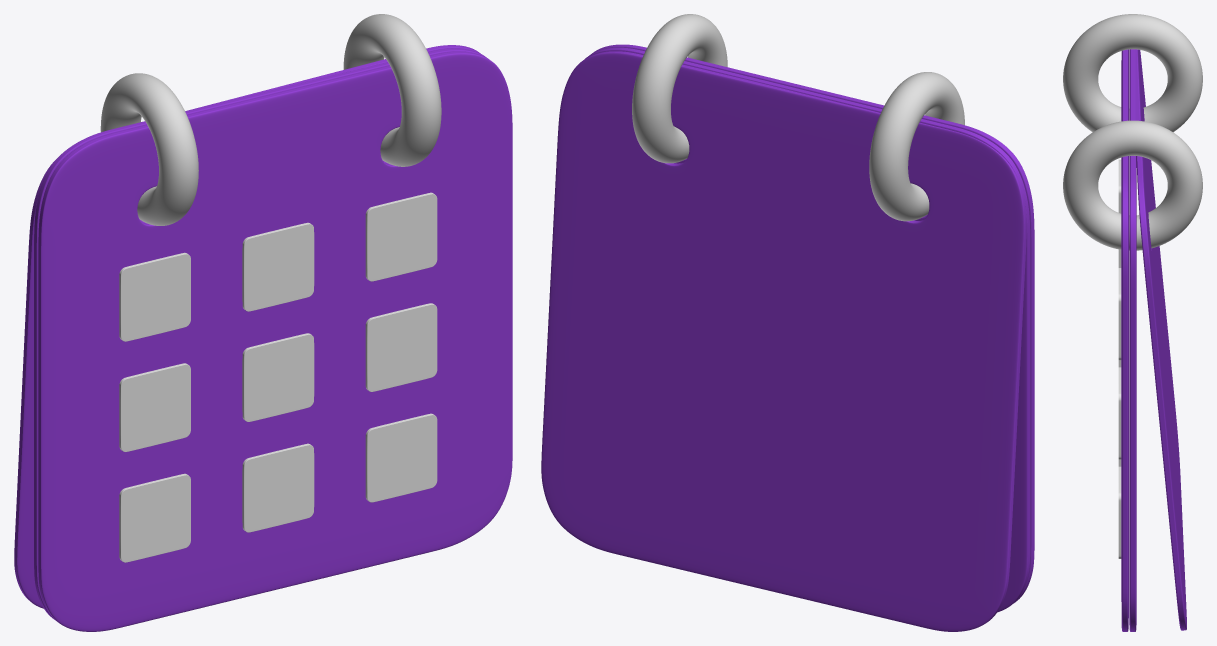
Rendered from calender.fbx.
3 renders of one model, left to right at view 1: azimuth 30°, elevation 25°; view 2: azimuth 150°, elevation 25°; view 3: azimuth 270°, elevation 25°, orthographic. The views are drawn at different scales.
Visible parts, largest first — view 1: Plane.002, Torus.009; view 2: Plane.002, Torus.009; view 3: Torus.009, Plane.002.
Boxes of the visible parts, x1,y1,x2,y2 form: Plane.002: (14, 45, 512, 631); Torus.009: (100, 14, 441, 225); Plane.002: (541, 44, 1034, 631); Torus.009: (632, 14, 964, 221); Torus.009: (1063, 14, 1202, 250); Plane.002: (1118, 49, 1186, 631).
Bounding box in the file's own units: 179 × 194 × 50.96.
